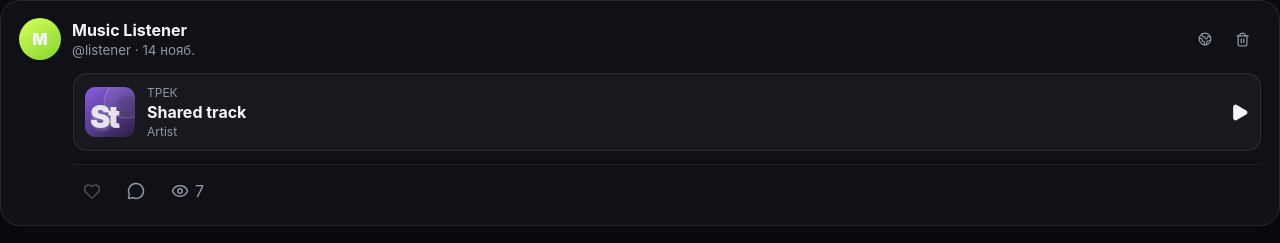
Scenario: SocialPostCard comments › pauses a playing track attachment and restores its play icon
Step 1. Click the button with aria-label "Включить Shared track" → (162, 92), box [73,73,1261,151]
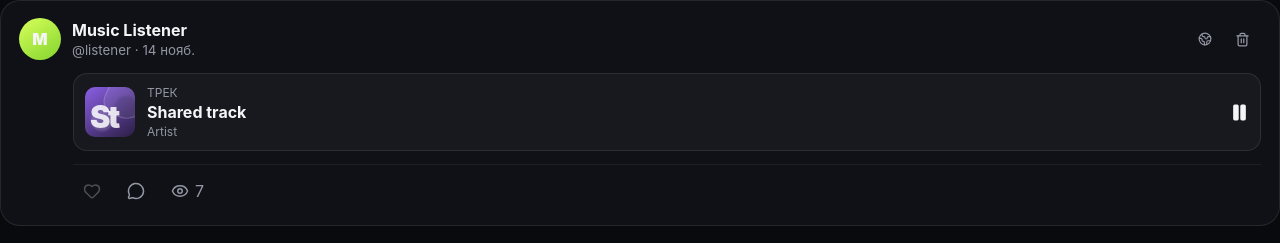
Now the icon with class "lucide-pause" is shown, box [1230,102,1249,122]
Step 2. Click the button with aria-label "Пауза Shared track" → (162, 92), box [73,73,1261,151]
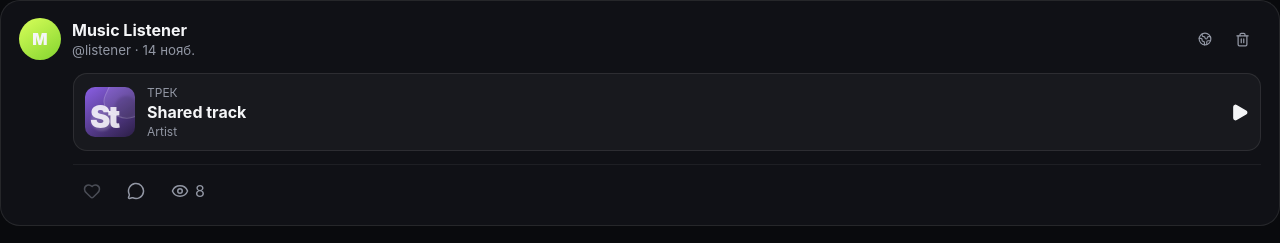
Now the icon with class "lucide-play" is shown, box [1230,102,1249,122]
